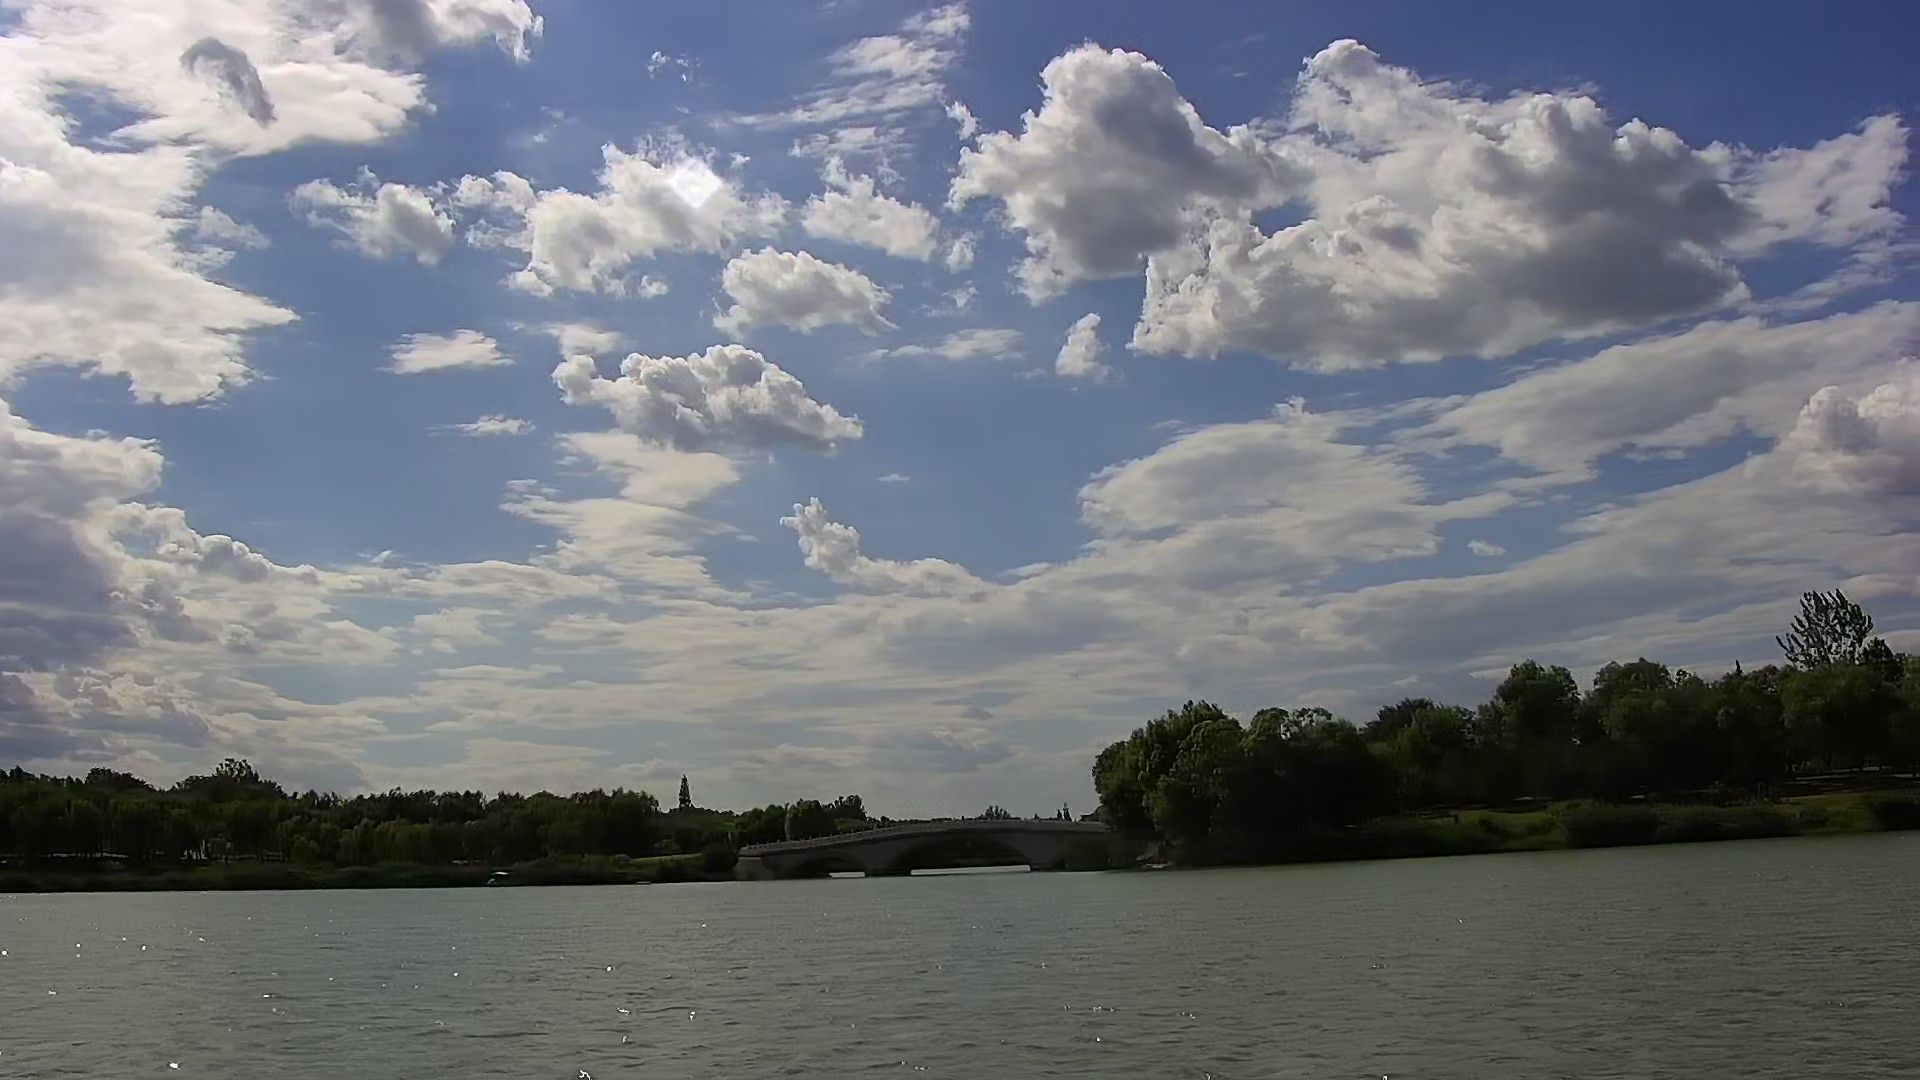bridge: (745, 811, 1101, 877)
